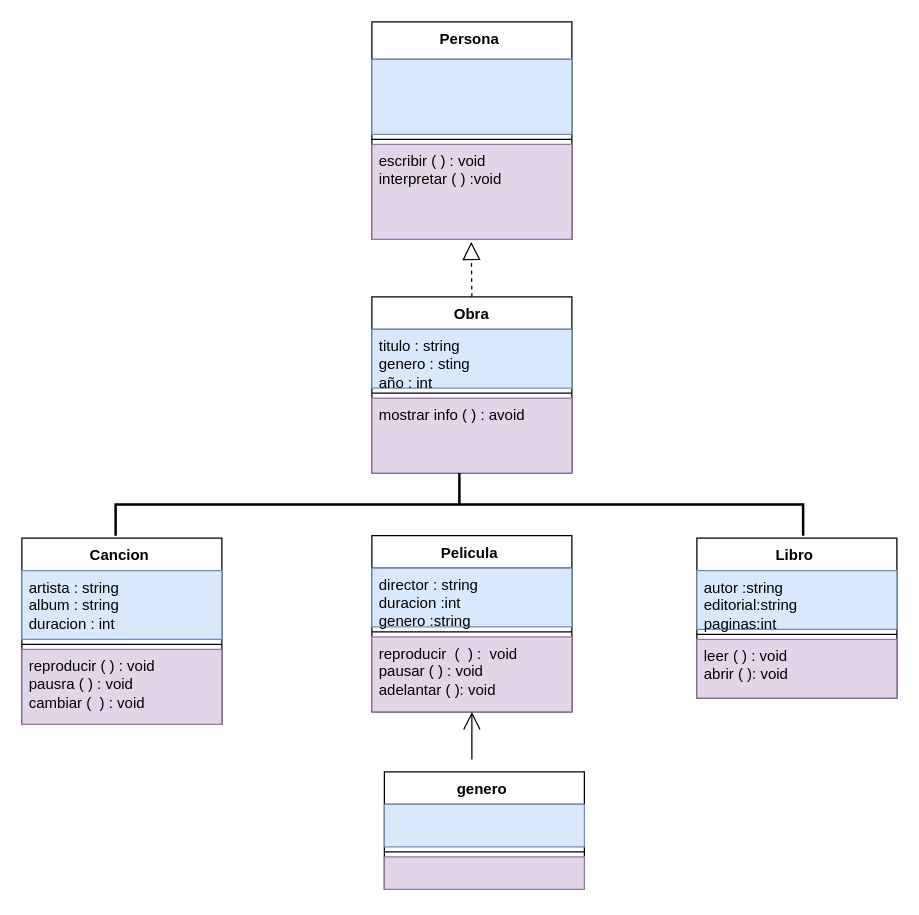
Image size: 919x915. Some labels were removed from this diagram. Here are the shapes that lost their labels. From the top down, the centre of each, then its label:
At pixel 471 96: "nombre : string edad : int nacionalidad : string".
At pixel 483 825: "nombre: string descripcion: string".
At pixel 483 872: "clasificar ( ) : void".
